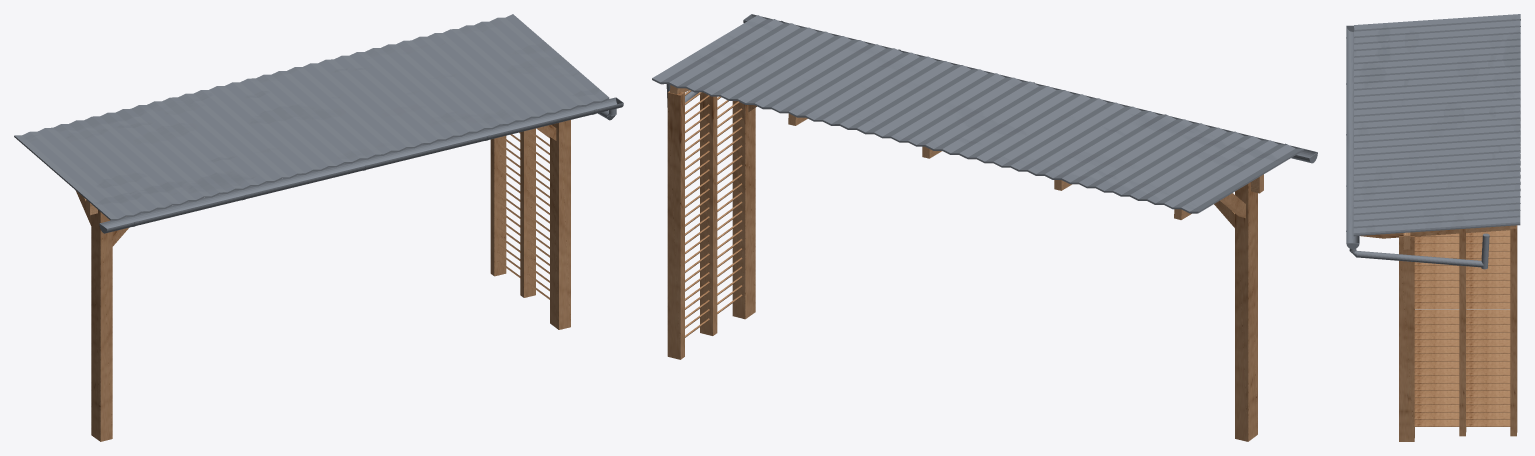
Rendered from roof_canopy_adjusted_pivot.fbx.
The picture shows the model from 3 angles, left to right: view 1: azimuth 30°, elevation 25°; view 2: azimuth 150°, elevation 25°; view 3: azimuth 270°, elevation 25°; orthographic projection. The views are drawn at different scales.
Visible parts, largest first — view 1: roof, wood, drainage; view 2: roof, wood, drainage; view 3: roof, wood, drainage.
Boxes of the visible parts, box(x1,y1,x2,y2) form: roof: box(14, 14, 609, 220); wood: box(75, 120, 570, 441); drainage: box(99, 97, 623, 233); roof: box(652, 15, 1304, 213); wood: box(667, 85, 1263, 441); drainage: box(666, 14, 1317, 163); roof: box(1353, 14, 1520, 236); wood: box(1360, 225, 1517, 441); drainage: box(1346, 25, 1489, 269).
Bounding box in the file's own units: 497 × 238 × 169.
2 materials, 2 textured.
